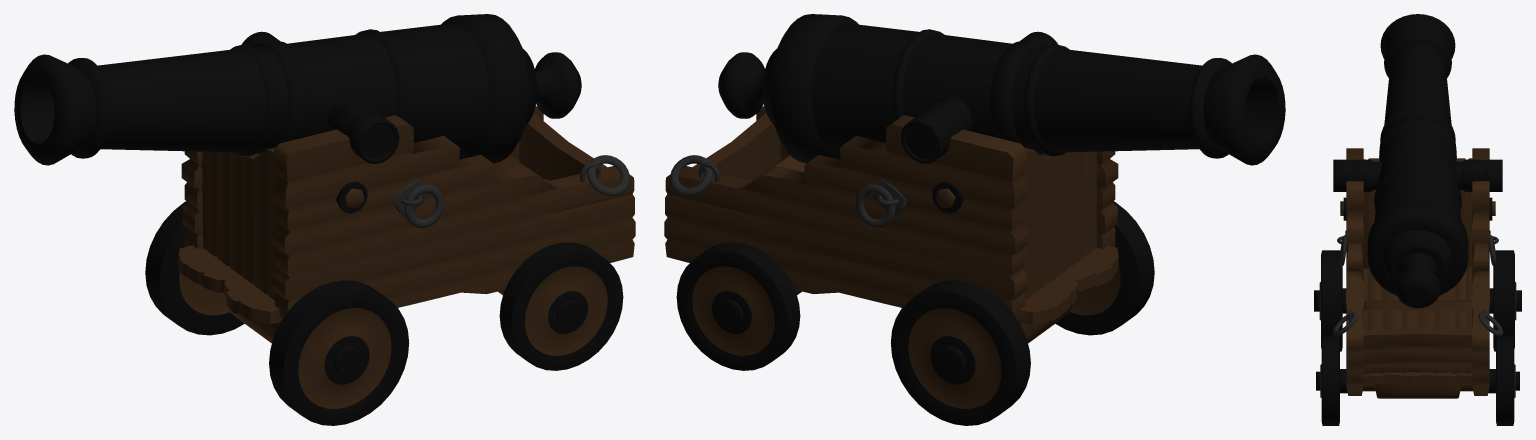
Rendered from cannon1.obj.
3 views of the same model, side by side, from view 1: azimuth 30°, elevation 25°; view 2: azimuth 150°, elevation 25°; view 3: azimuth 270°, elevation 25° (orthographic). The views are drawn at different scales.
Parts seen in each view (by area): view 1: MainCannon_Material, PlankWallSide_Material.003, FrontWheels_Material, PlantWallFrontBottom_Material.003, BackWheels_Material, FrontWheels_Material.003, BackWheels_Material.003, AttachedCannon_Material, BackPlank_Material.003, FrontRings_Material.005, BackRings_Material.005; view 2: MainCannon_Material, PlankWallSide_Material.003, FrontWheels_Material, PlantWallFrontBottom_Material.003, BackWheels_Material, FrontWheels_Material.003, BackWheels_Material.003, AttachedCannon_Material, BackPlank_Material.003, FrontRings_Material.005, BackRings_Material.005; view 3: MainCannon_Material, PlankWallSide_Material.003, PlantWallFrontBottom_Material.003, BackPlank_Material.003, FrontWheels_Material, BackWheels_Material, AttachedCannon_Material, WoodBox2_Material.015, WoodSlant_Material.003, BackRings_Material.005, FrontRings_Material.005.
Boxes of the visible parts, bbox=[...] form: MainCannon_Material: bbox=[14, 14, 581, 165]; PlankWallSide_Material.003: bbox=[181, 106, 635, 323]; FrontWheels_Material: bbox=[145, 201, 408, 425]; PlantWallFrontBottom_Material.003: bbox=[178, 147, 281, 324]; BackWheels_Material: bbox=[499, 242, 623, 370]; FrontWheels_Material.003: bbox=[179, 272, 391, 408]; BackWheels_Material.003: bbox=[525, 266, 607, 355]; AttachedCannon_Material: bbox=[241, 31, 399, 163]; BackPlank_Material.003: bbox=[518, 113, 607, 180]; FrontRings_Material.005: bbox=[404, 184, 444, 228]; BackRings_Material.005: bbox=[587, 155, 629, 195]; MainCannon_Material: bbox=[718, 14, 1285, 165]; PlankWallSide_Material.003: bbox=[664, 106, 1118, 323]; FrontWheels_Material: bbox=[891, 201, 1154, 425]; PlantWallFrontBottom_Material.003: bbox=[1018, 147, 1118, 324]; BackWheels_Material: bbox=[676, 242, 800, 370]; FrontWheels_Material.003: bbox=[908, 265, 1120, 408]; BackWheels_Material.003: bbox=[692, 266, 774, 355]; AttachedCannon_Material: bbox=[900, 31, 1058, 163]; BackPlank_Material.003: bbox=[692, 113, 781, 180]; FrontRings_Material.005: bbox=[855, 184, 895, 228]; BackRings_Material.005: bbox=[670, 155, 712, 195]; MainCannon_Material: bbox=[1367, 14, 1468, 308]; PlankWallSide_Material.003: bbox=[1346, 148, 1489, 395]; PlantWallFrontBottom_Material.003: bbox=[1363, 158, 1472, 384]; BackPlank_Material.003: bbox=[1363, 329, 1472, 374]; FrontWheels_Material: bbox=[1314, 250, 1521, 351]; BackWheels_Material: bbox=[1316, 336, 1519, 425]; AttachedCannon_Material: bbox=[1333, 159, 1502, 191]; WoodBox2_Material.015: bbox=[1375, 382, 1460, 398]; WoodSlant_Material.003: bbox=[1364, 300, 1471, 311]; BackRings_Material.005: bbox=[1332, 312, 1503, 335]; FrontRings_Material.005: bbox=[1339, 235, 1496, 266].
Size of the model in its own units: 0.995 by 0.6353 by 0.4644.
